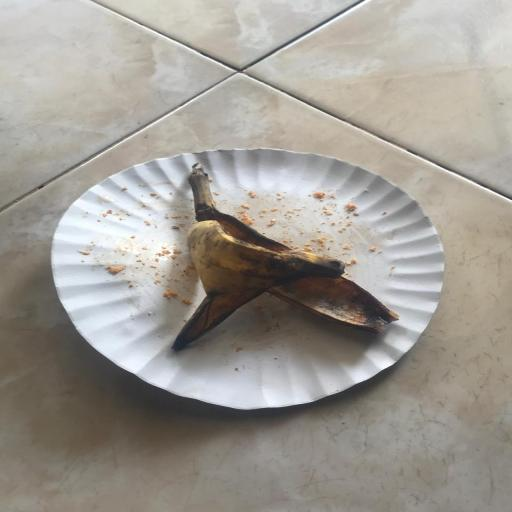waste: (40, 132, 455, 426)
